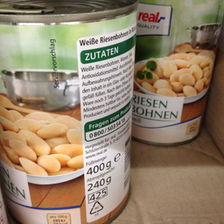beans: (3, 3, 138, 224), (139, 3, 222, 142)
